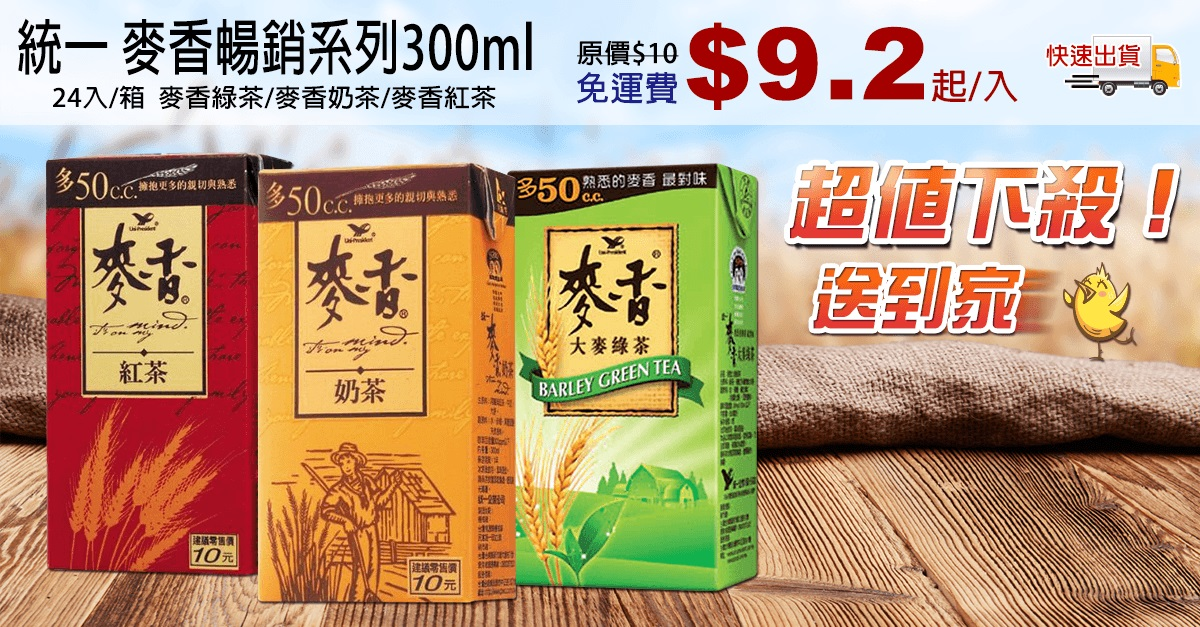milk tea: (256, 165, 512, 606)
